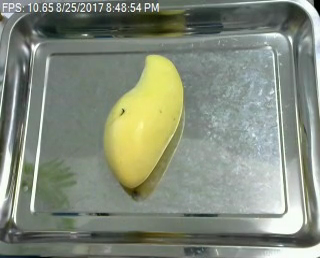Mango: (94, 53, 190, 196)
